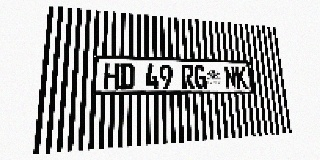4: (145, 64, 159, 89)
9: (159, 64, 173, 89)
D: (119, 63, 134, 90)
G: (194, 65, 207, 89)
H: (104, 63, 119, 90)
K: (235, 66, 248, 89)
N: (224, 66, 237, 89)
R: (181, 65, 195, 89)
